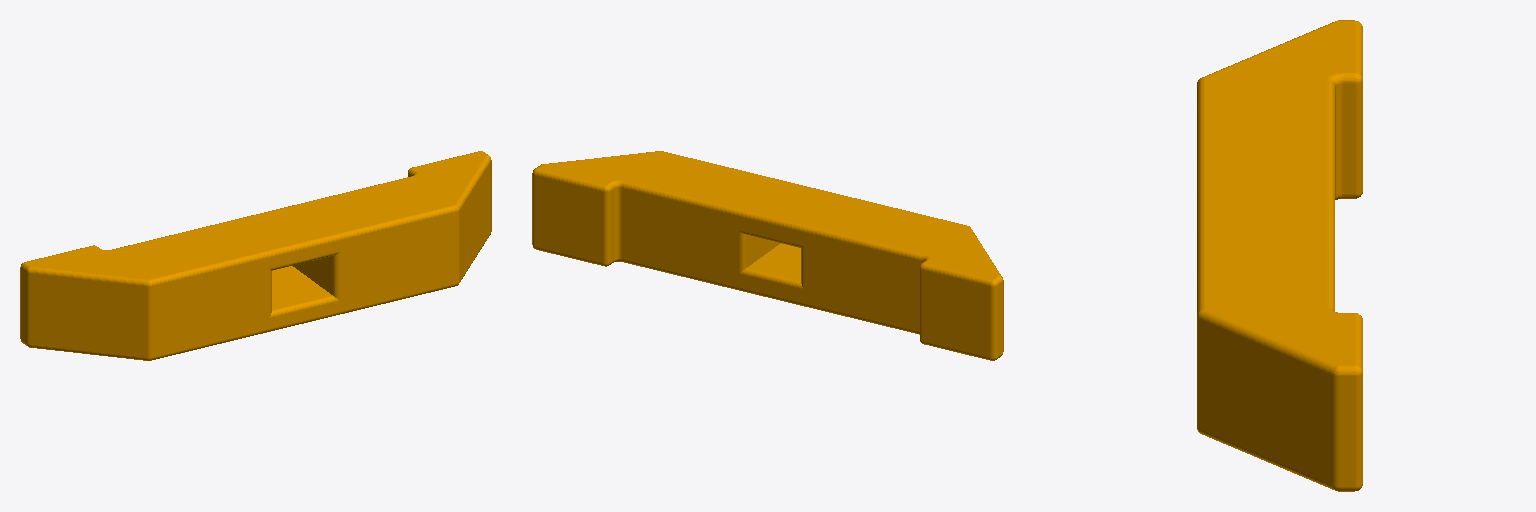
robot.urdf — beam_3x_part_0:
<?xml version="1.0"?>
<robot name="beam_3x_part_0">
  <link name="beam_3x_part_0">
    <visual>
      <origin xyz="0 0 0" rpy="0 0 0"/>
      <geometry>
        <mesh filename="beam_3x_part_0.obj" scale="1 1 1"/>
      </geometry>
    </visual>
    <collision>
      <origin xyz="0 0 0" rpy="0 0 0"/>
      <geometry>
        <mesh filename="beam_3x_part_0.obj" scale="1 1 1"/>
      </geometry>
    </collision>
    <inertial>
      <density value="325.0"/>
      <origin xyz="0.0 0 0" rpy="0 0 0"/>
    </inertial>
  </link>
</robot>

--- Facts derived from the render (not from the file) ---
3 views of the same robot in one strip: view 1: azimuth 30°, elevation 25°; view 2: azimuth 150°, elevation 25°; view 3: azimuth 270°, elevation 25° (orthographic).
Robot: beam_3x_part_0 — 1 links, 0 joints (none); root link beam_3x_part_0; default pose: all joints at 0.
Visible links, largest first — view 1: beam_3x_part_0; view 2: beam_3x_part_0; view 3: beam_3x_part_0.
Link boxes in pixels (box(x1,y1,x2,y2)): beam_3x_part_0: box(20, 151, 491, 360); beam_3x_part_0: box(532, 151, 1003, 360); beam_3x_part_0: box(1197, 20, 1362, 491).
Size in the robot's own frame: 0.2286 by 0.0457 by 0.0381 metres.
Meshes: 1 distinct files referenced, 1 mesh visuals loaded (1 OBJ).
